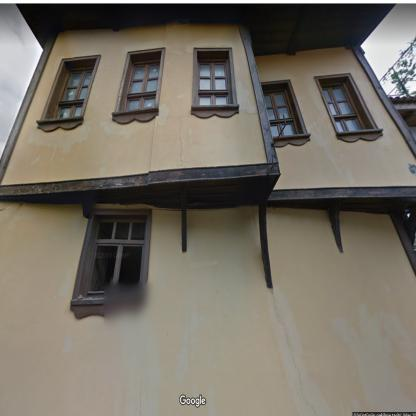window: (72, 210, 150, 302), (42, 57, 99, 119), (316, 74, 378, 131), (117, 49, 164, 110), (262, 81, 306, 137), (194, 48, 236, 106)
